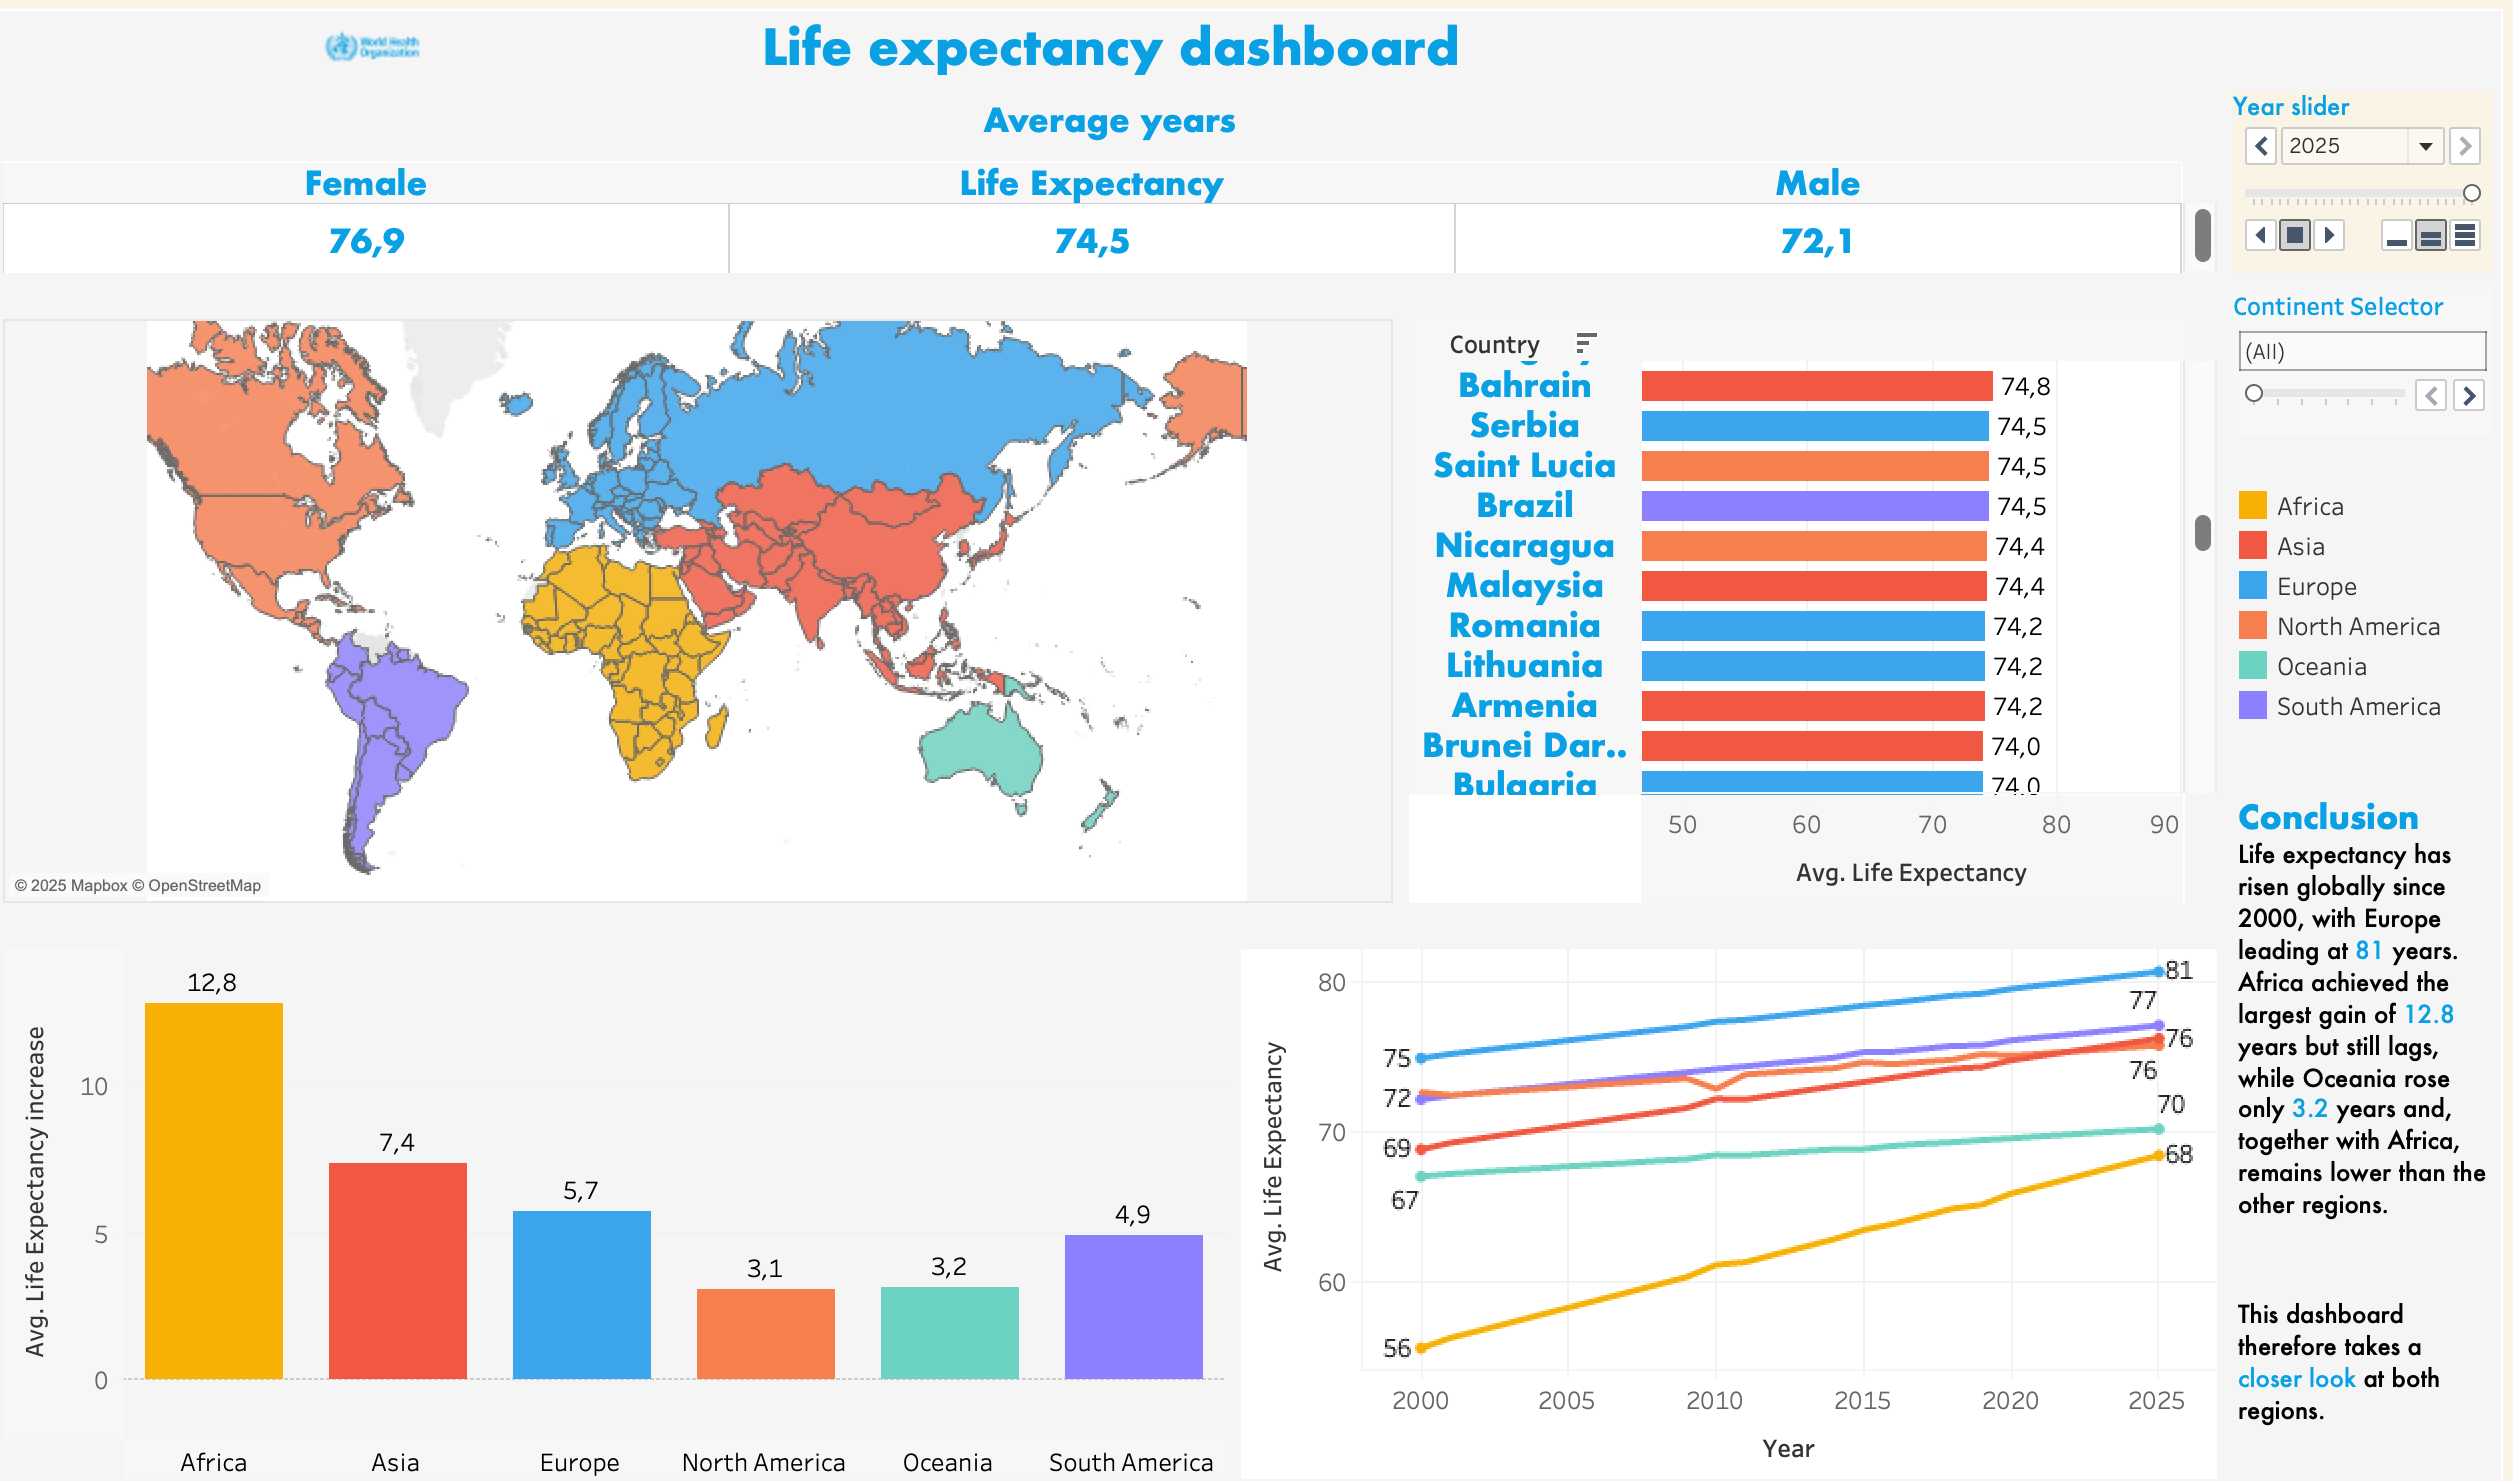

The page's visual inventory and layout, read from the dashboard file:
{"tool":"tableau","page":{"name":"Dashboard 1","canvas":[1000,1000],"units":"permille","ordinal":0},"visuals":[{"type":"image","box":[7.1,11.9,280,64.2]},{"type":"title","box":[287.1,11.9,705.8,64.2]},{"type":"worksheet","title":"KPI's","mark":"Automatic","box":[7.1,76.1,893,166.7]},{"type":"currpage","title":"LIFE_exp_diff","box":[900.1,76.1,92.8,165.3]},{"type":"filter","title":"KPI's","param":"[federated.03ces6k0pas0ll14670pz1yx39q4].[none:continent_full:nk]","box":[900.1,241.5,92.8,133.6]},{"type":"worksheet","title":"Map","mark":"Multipolygon","box":[7.1,242.8,563.3,371.4]},{"type":"worksheet","title":"Countries","mark":"Automatic","rows":["country"],"cols":["life_expectancy"],"box":[570.4,242.8,329.7,371.4]},{"type":"legend","title":"LIFE_EXp_cont","param":"[federated.03ces6k0pas0ll14670pz1yx39q4].[none:continent_full:nk]","box":[900.1,375.1,92.8,230.2]},{"type":"worksheet","title":"LIFE_exp_diff","mark":"Automatic","rows":["life_expectancy_diff_y"],"cols":["continent_full"],"box":[7.1,614.3,520.4,373.8]},{"type":"worksheet","title":"LIFE_EXp_cont","mark":"Automatic","rows":["life_expectancy"],"cols":["year"],"box":[527.5,614.3,372.6,373.8]}]}

Visuals, with their boxes on the dashboard's canvas, which has no fixed pixel size, in thousandths of its width and height (x1, y1, x2, y2). These are canvas units, not pixel positions in the 2513x1481 screenshot, which may show the page scaled, cropped or inside an application window:
image: bbox(7, 12, 287, 76)
title: bbox(287, 12, 993, 76)
"KPI's" worksheet: bbox(7, 76, 900, 243)
"LIFE_exp_diff" currpage: bbox(900, 76, 993, 241)
"KPI's" filter: bbox(900, 242, 993, 375)
"Map" worksheet (Multipolygon marks): bbox(7, 243, 570, 614)
"Countries" worksheet: bbox(570, 243, 900, 614)
"LIFE_EXp_cont" legend: bbox(900, 375, 993, 605)
"LIFE_exp_diff" worksheet: bbox(7, 614, 528, 988)
"LIFE_EXp_cont" worksheet: bbox(528, 614, 900, 988)
